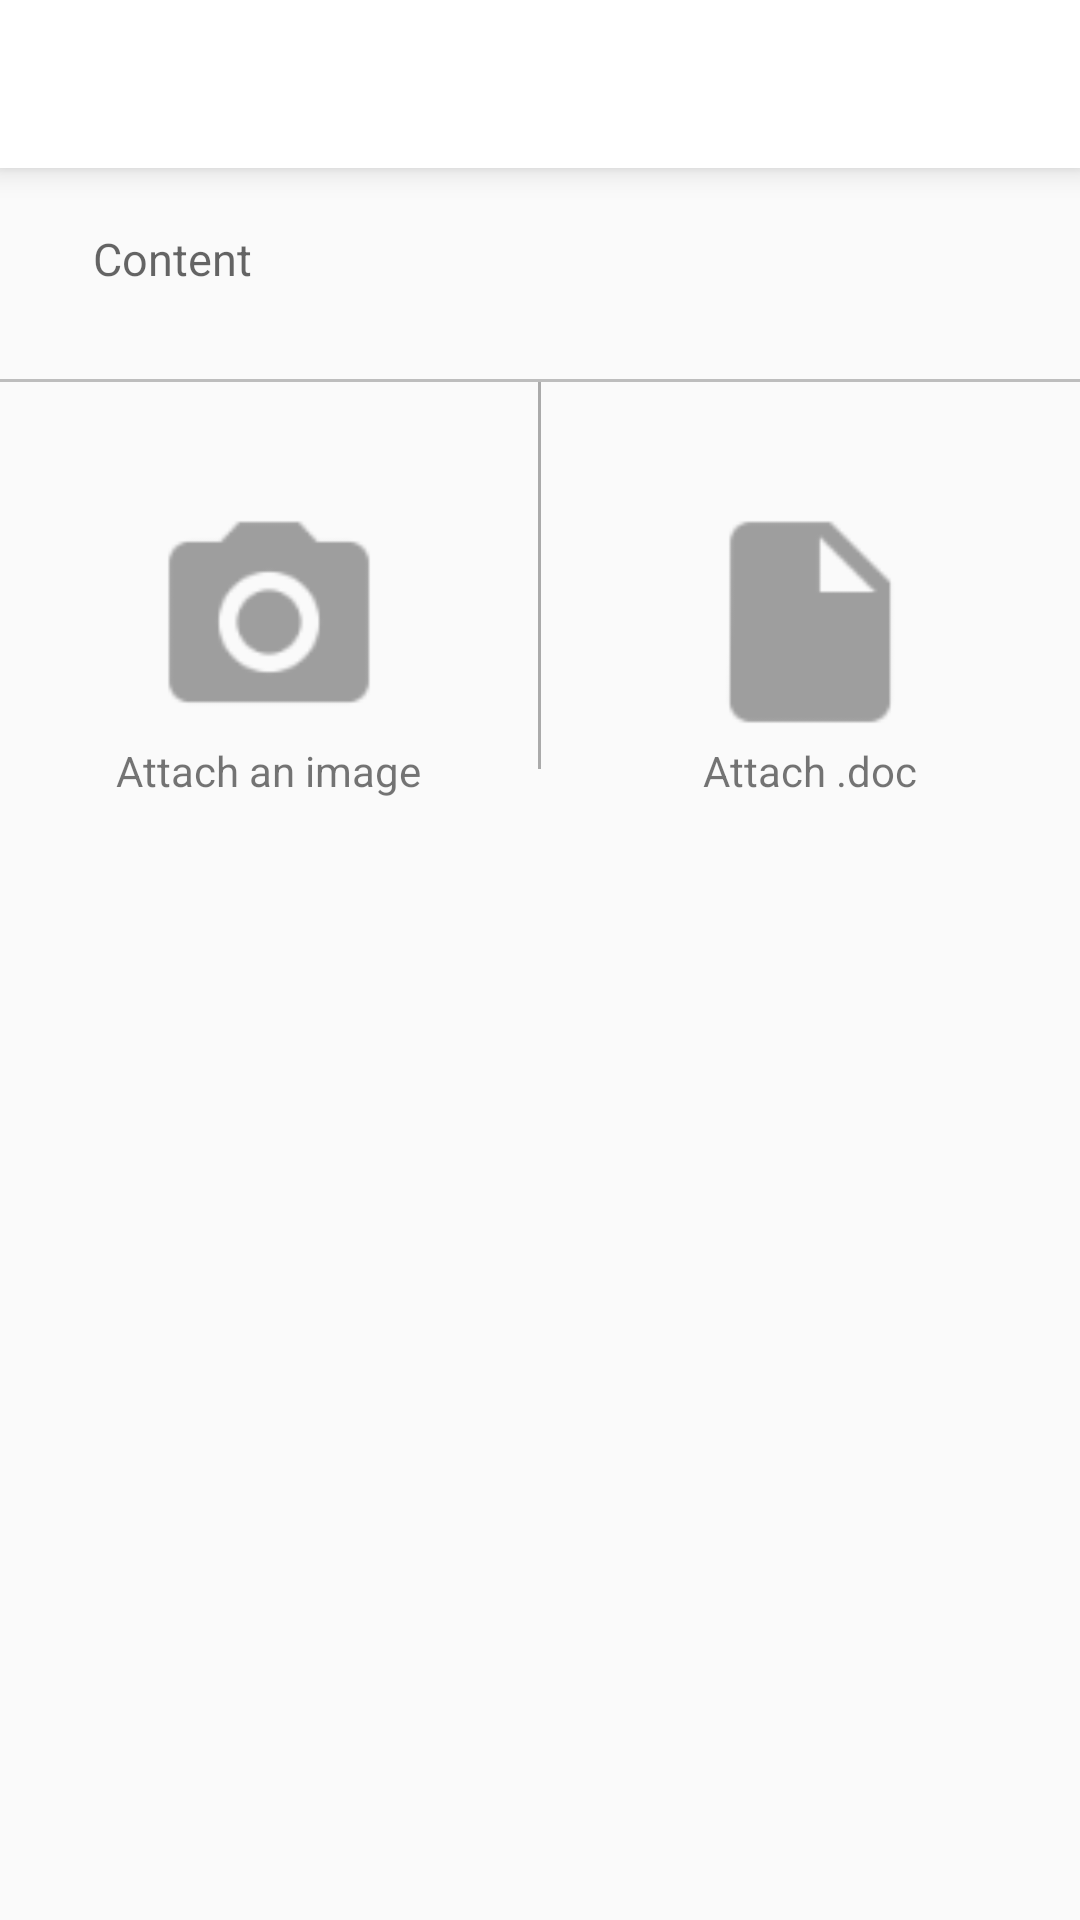

Point at icon controls on the screen. Image size 1080 × 1920, points as [x,y].
insert drive file: [810,622]
local see: [269,612]
